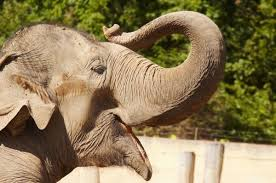Elephant: (4, 8, 240, 183)
